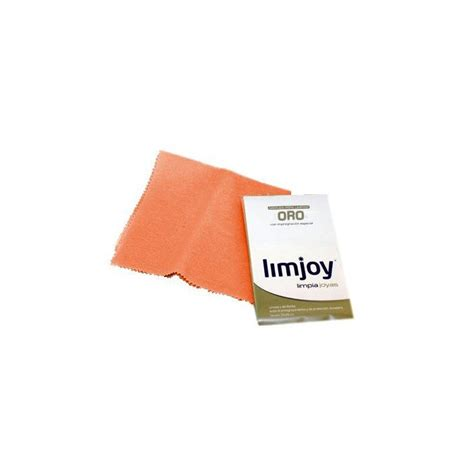gamuza: (111, 150, 293, 304)
